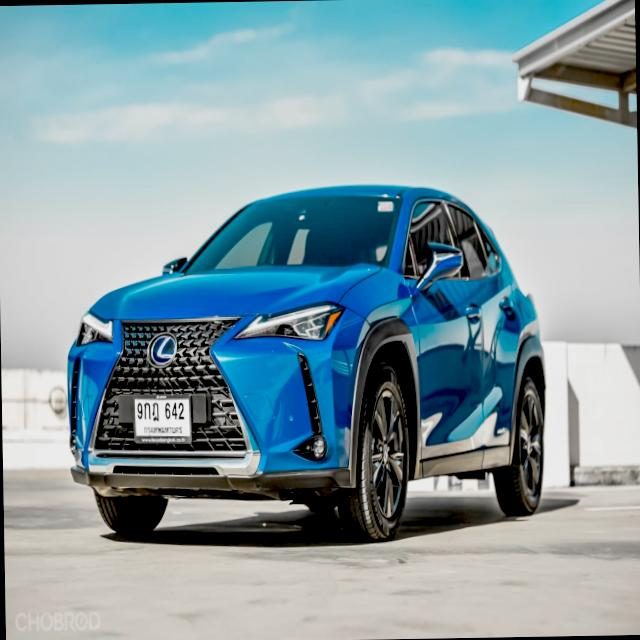license_plate: (132, 392, 194, 446)
